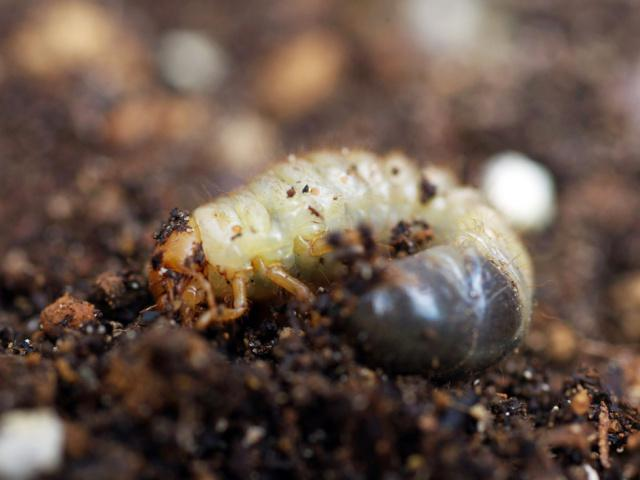grub: (142, 145, 540, 384)
